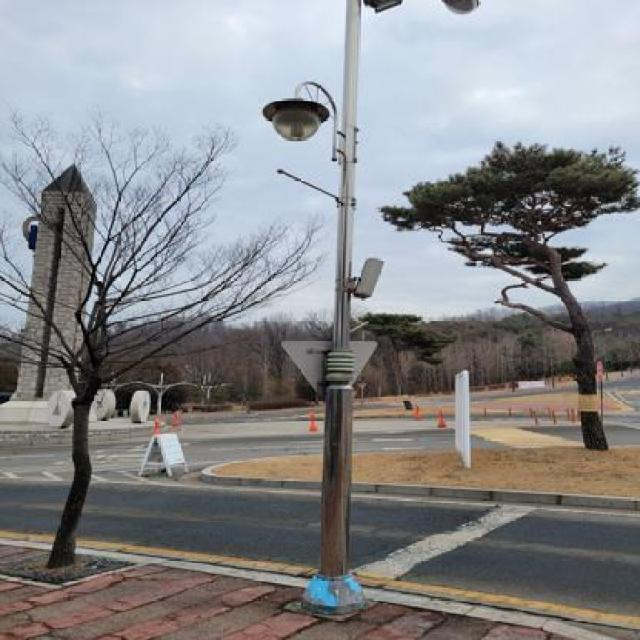pole: (296, 0, 390, 623)
